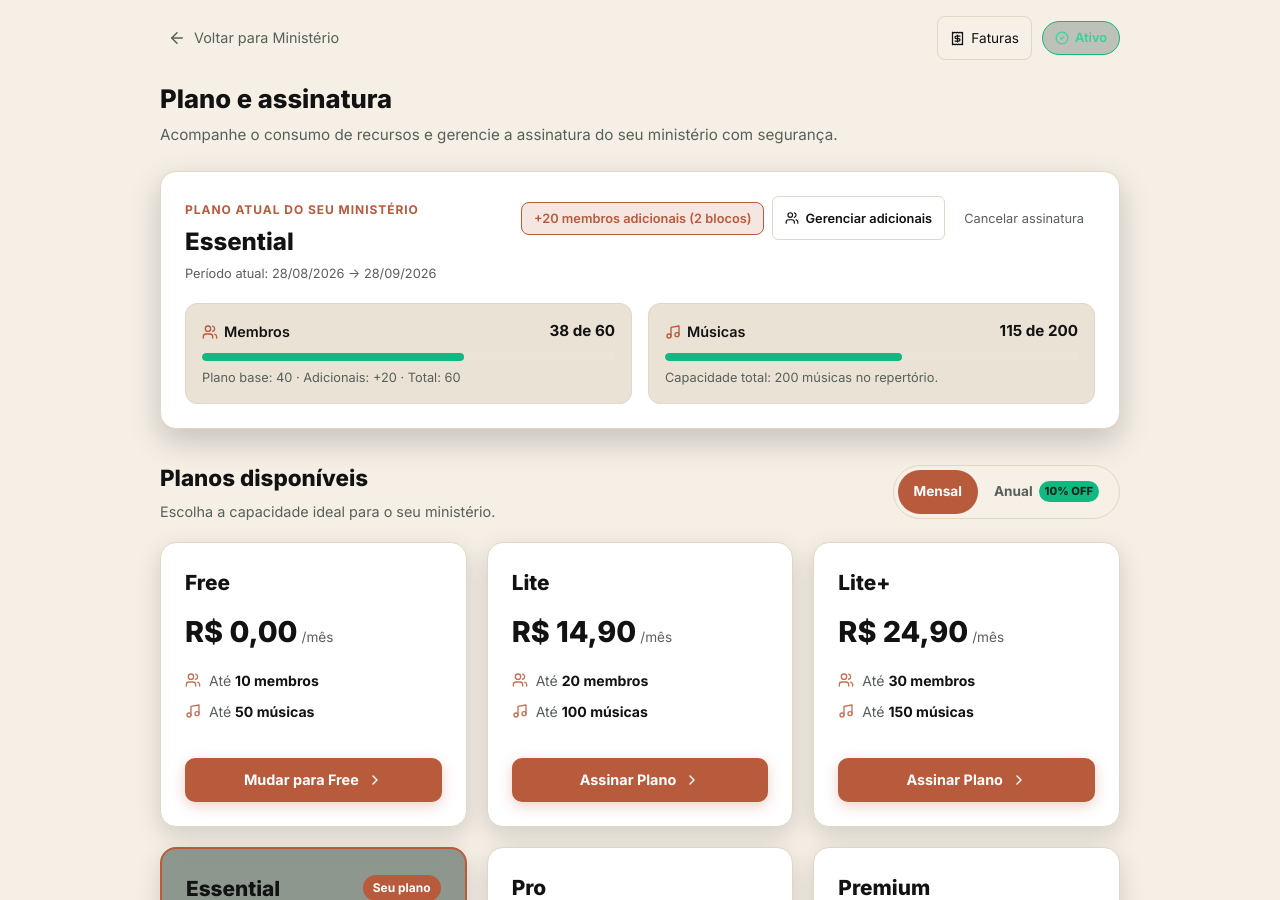
SubscriptionPlanView Component › deve abrir modal de faturas e listar o histórico com links seguros
Click the button "Faturas": point(985, 38) [937,16,1032,60]
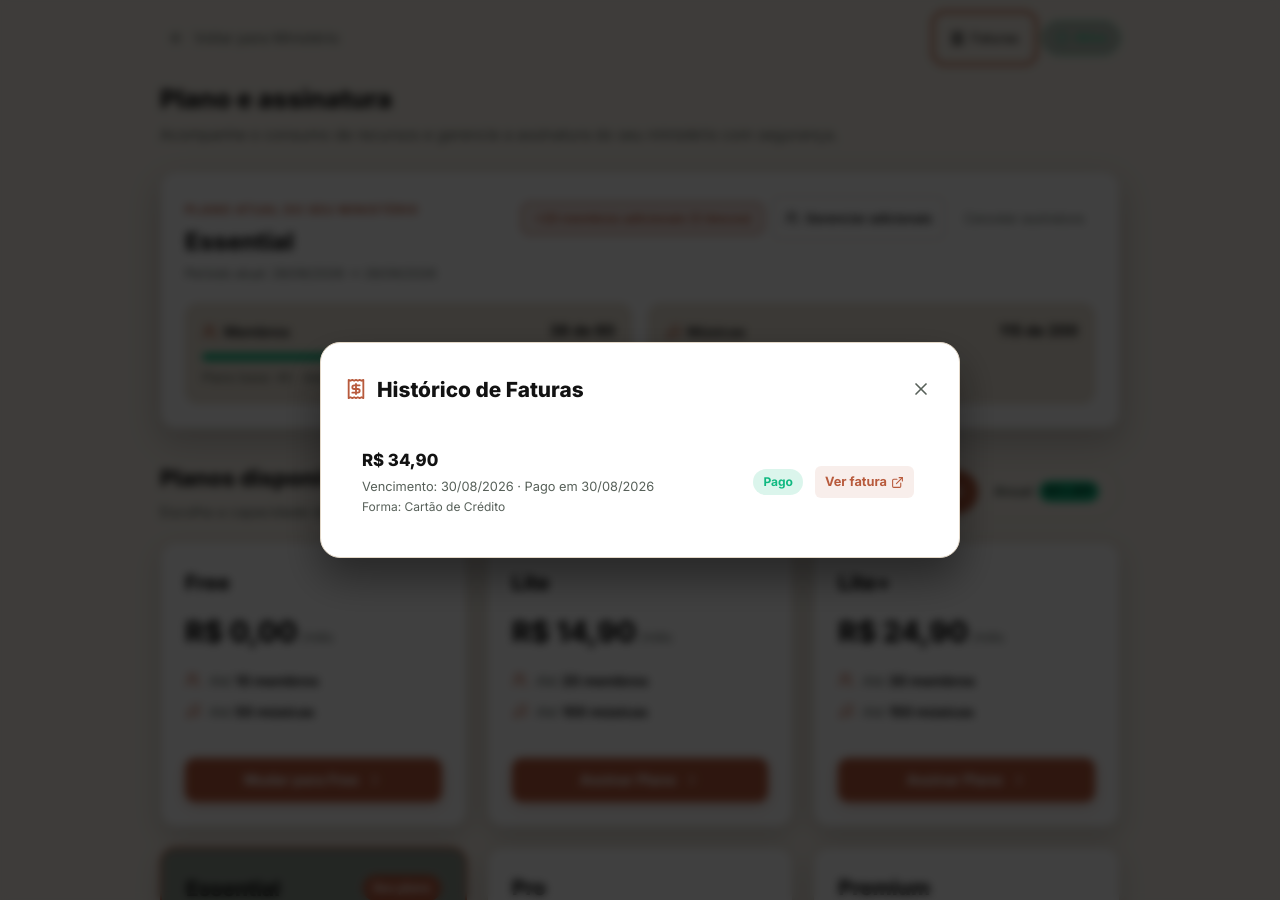
Expected: the heading "Histórico de Faturas" is shown, [377,374,584,405]
Expected: the text "Pago" is shown, [753,469,803,495]
Expected: the text "Forma: Cartão de Crédito" is shown, [362,499,505,514]
